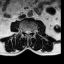CCS_severe_stenosis: (27, 29, 29, 36)
LFS_stenosis: (30, 28, 33, 35)
LLS_normal: (29, 28, 30, 35)
RFS_stenosis: (23, 28, 25, 34)
RLS_normal: (25, 29, 27, 35)
